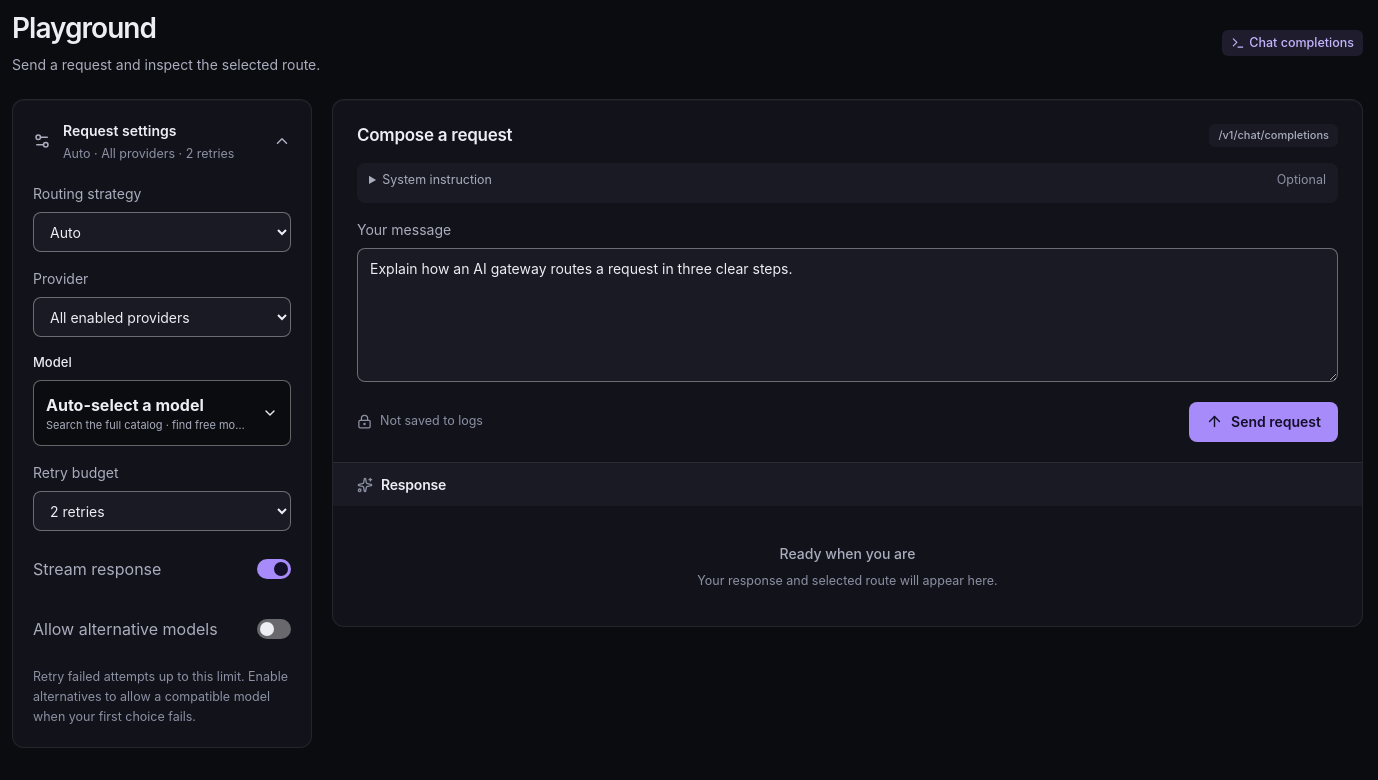
Scenario: Playground › announces HTTP failures and offers a working retry
Click the button "Send request" at (1264, 422), box [1189,402,1338,442]
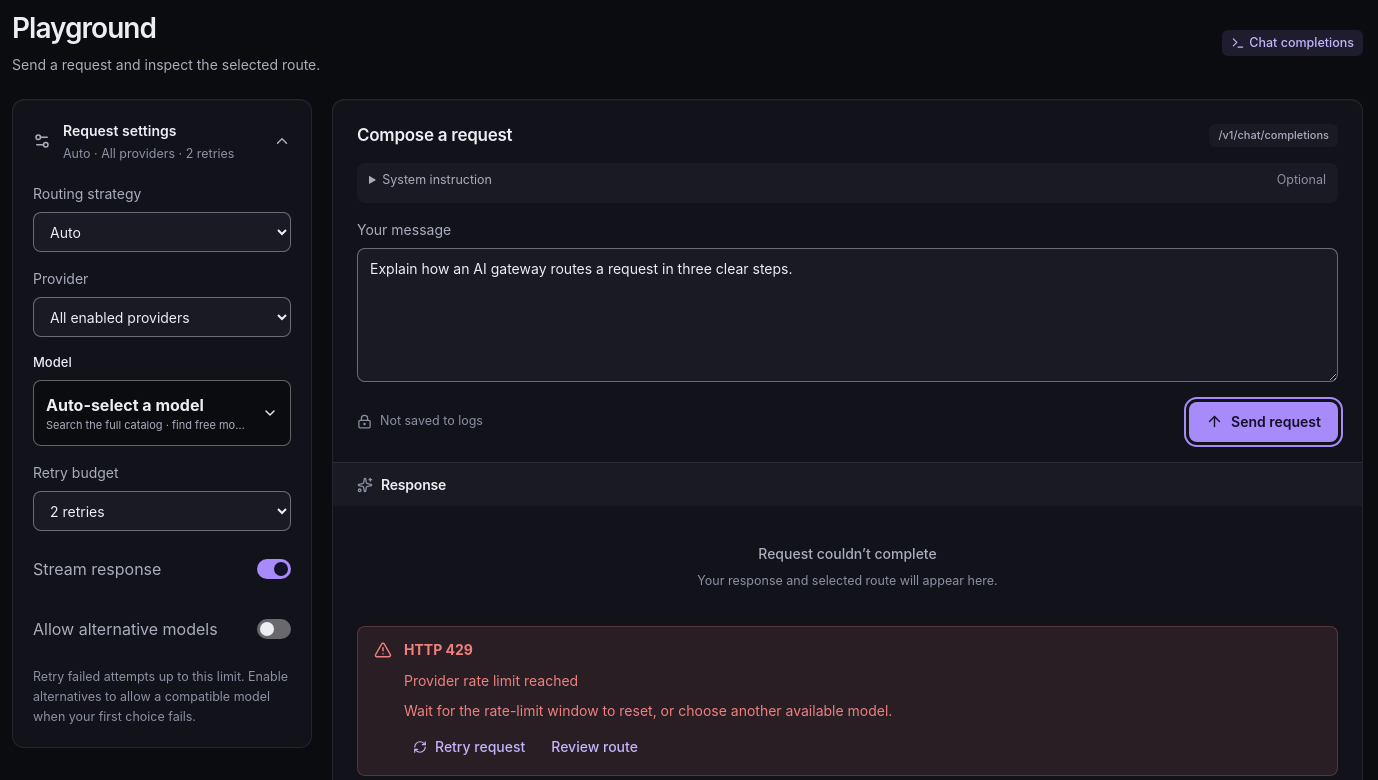
Expected: the message shows "HTTP 429", [404,642,473,658]
Expected: the message shows "Provider rate limit reached", [404,672,578,689]
Click the button "Retry request" at (469, 747), box [404,731,534,763]
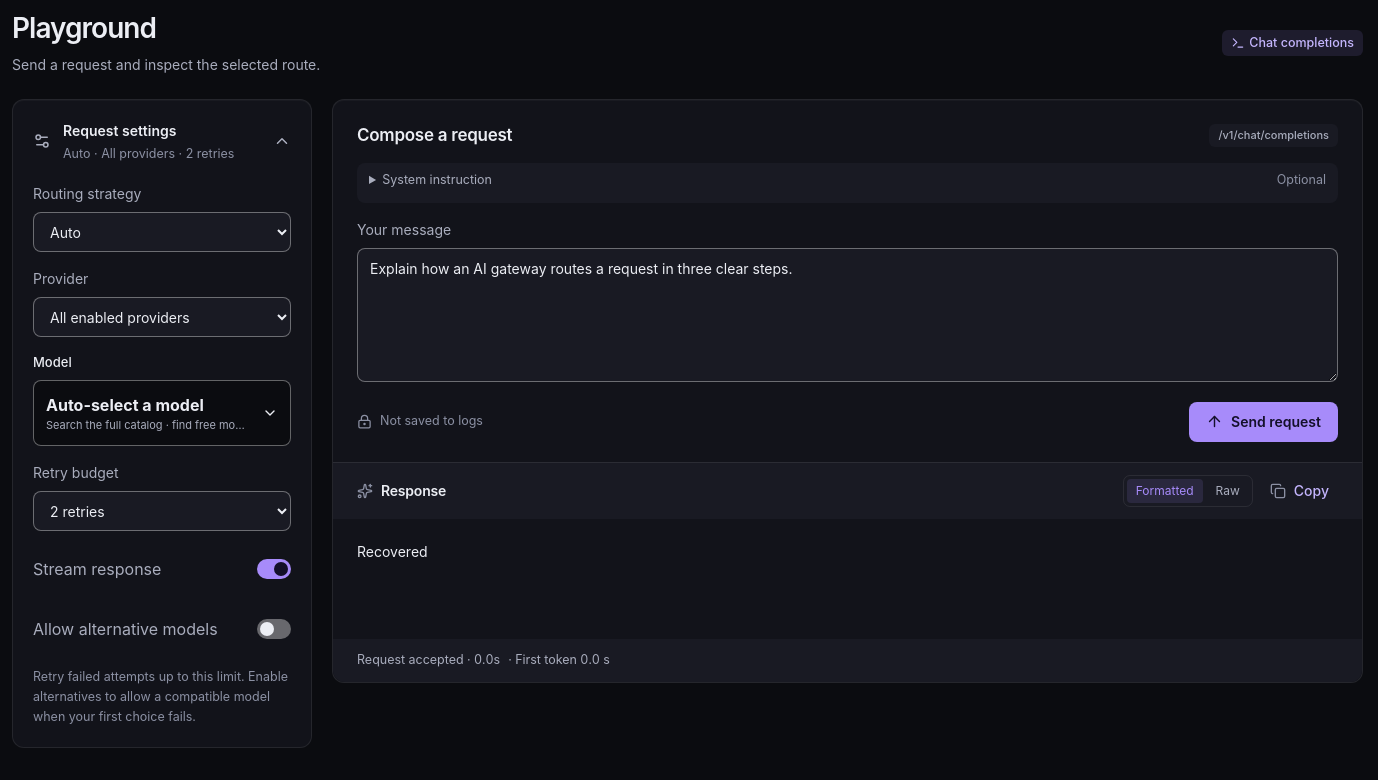
Expected: the text "Recovered" is shown, [357,543,428,560]
